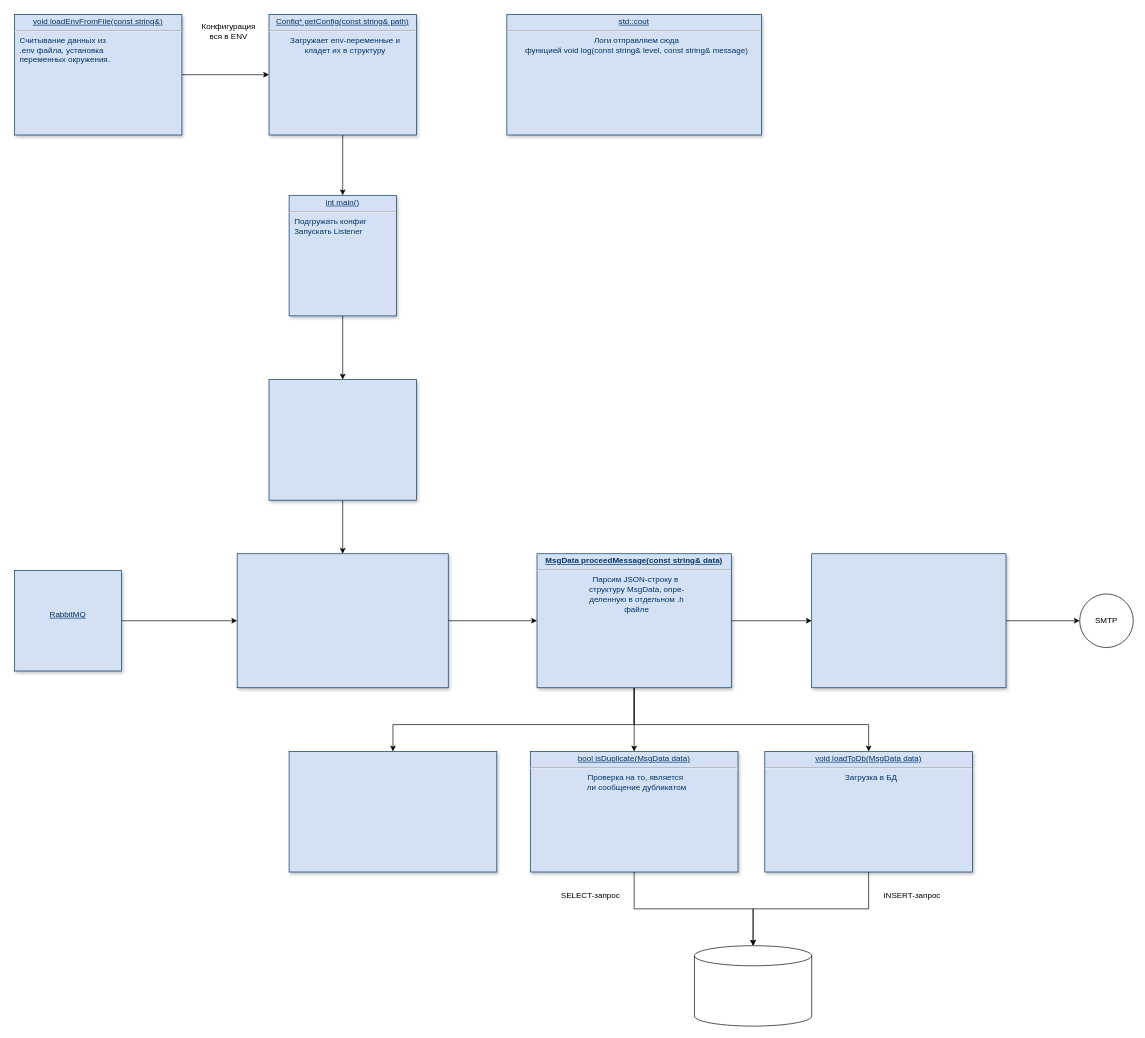
This 1145x1038 diagram has some shape labels left out. The centre of each missing label's shape, as x and y in pixels:
"MsgData parseJson( const string& data ) Десериализация JSON" belongs at point 393,812.
"SQLite3" belongs at point 753,985.
"string receiveMessage(const string& data_string) Получение сообщения из RabbitMQ" belongs at point 343,621.
"void SMTP_send ( MsgData data ) Отправляет письмо с помощью SMTP-сервера" belongs at point 909,621.
"void startReceivingMessages() Запускает while true" belongs at point 343,440.
